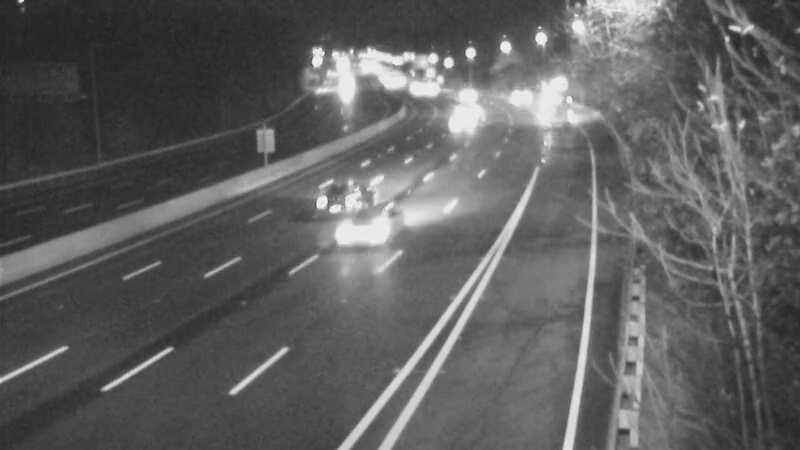vehicle: (293, 155, 373, 235), (314, 187, 394, 267), (492, 72, 542, 122), (439, 70, 489, 120), (445, 86, 495, 136), (439, 100, 489, 150), (524, 87, 574, 137)
